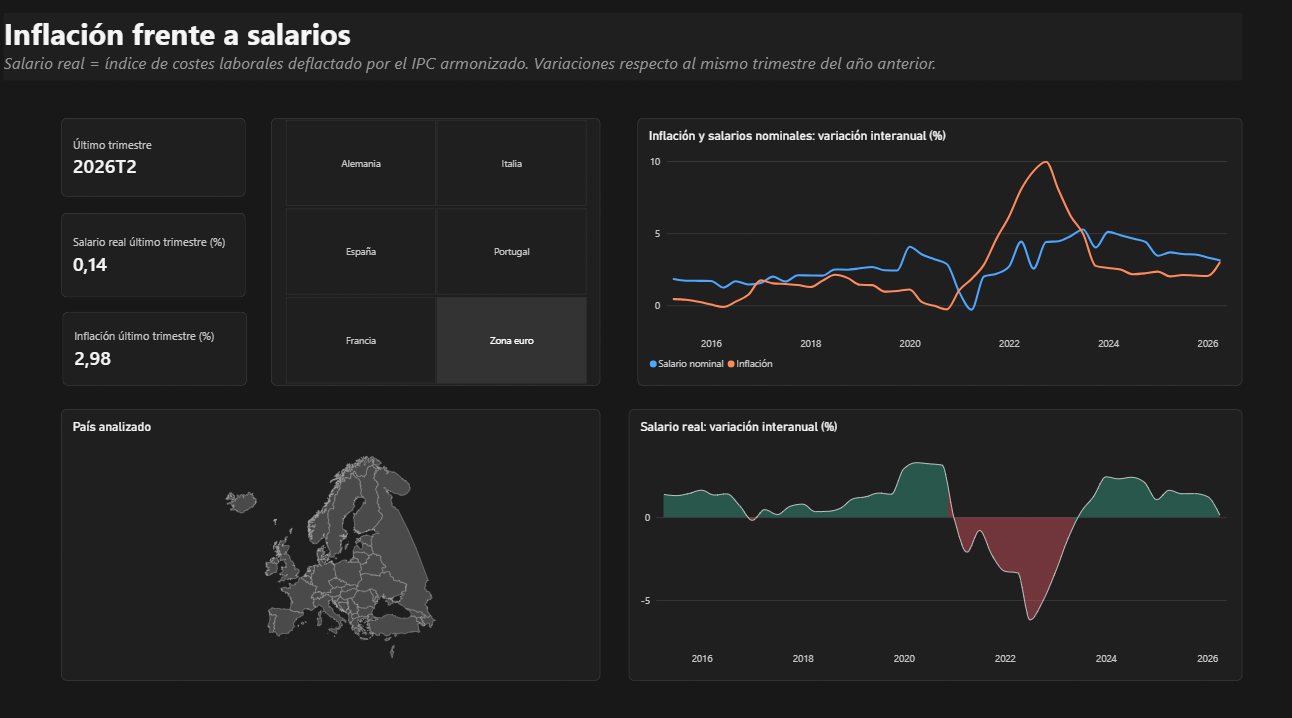

The dashboard page shown, as its layout file describes it:
{"tool":"powerbi","page":{"name":"Inflación vs salarios","canvas":[1920,1080],"ordinal":1},"visuals":[{"type":"lineChart","title":"Inflación y salarios nominales: variación interanual (%)","fields":{"Category":["datos_procesados.fecha"],"Y":["Avg(datos_procesados.salario_nominal_yoy)","Avg(datos_procesados.inflacion_yoy)"]},"box":[944.7,175.1,882.7,390.3],"z":0},{"type":"areaChart","title":"Salario real: variación interanual (%)","fields":{"Category":["datos_procesados.fecha"],"Y":["Sum(datos_procesados.salario_real_yoy)"]},"box":[931.9,600,895.4,395.7],"z":1000},{"type":"textbox","box":[20.1,21.9,1807.3,98.5],"z":2000},{"type":"shapeMap","title":"País analizado","fields":{"Category":["datos_procesados.geo"]},"box":[104,600,786,395.7],"z":3000},{"type":"slicer","fields":{"Values":["datos_procesados.pais"]},"box":[410.3,175.1,479.6,390.3],"z":4000},{"type":"cardVisual","fields":{"Data":["datos_procesados.Salario Real YoY Ultimo Trimestre"]},"box":[104,313.7,269.1,123.7],"z":5000},{"type":"cardVisual","fields":{"Data":["datos_procesados.Ultimo Trimestre"]},"box":[104,175.1,269.1,115],"z":6000},{"type":"cardVisual","fields":{"Data":["datos_procesados.Inflacion Ultimo Trimestre"]},"box":[105.8,457.8,269.1,108.5],"z":7000}]}

Visuals, with their boxes in screenshot pixels (x1, y1, x2, y2), scaled from the page's 1920x1080 canvas onto the 1292x718 screenshot:
"Inflación y salarios nominales: variación interanual (%)" lineChart: (636,116,1230,376)
"Salario real: variación interanual (%)" areaChart: (627,399,1230,662)
textbox: (14,15,1230,80)
"País analizado" shapeMap: (70,399,599,662)
slicer - datos_procesados.pais: (276,116,599,376)
cardVisual - datos_procesados.Salario Real YoY Ultimo Trimestre: (70,209,251,291)
cardVisual - datos_procesados.Ultimo Trimestre: (70,116,251,193)
cardVisual - datos_procesados.Inflacion Ultimo Trimestre: (71,304,252,376)
